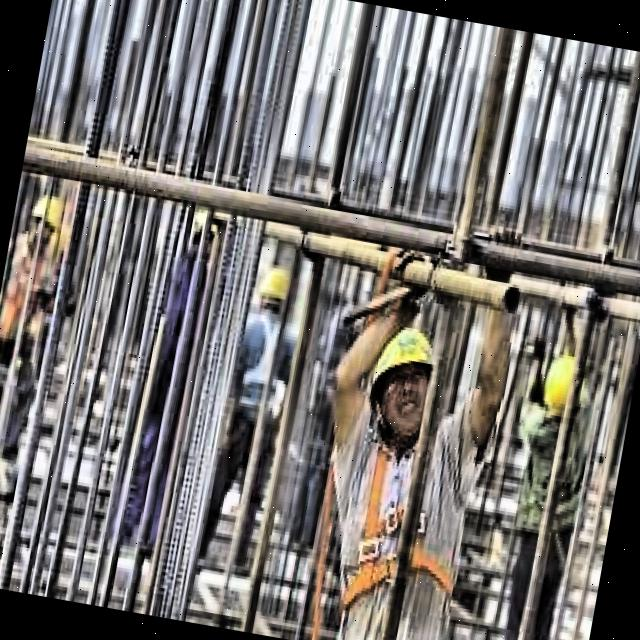helmet: (354, 312, 447, 448), (532, 342, 586, 431), (247, 255, 306, 324)
